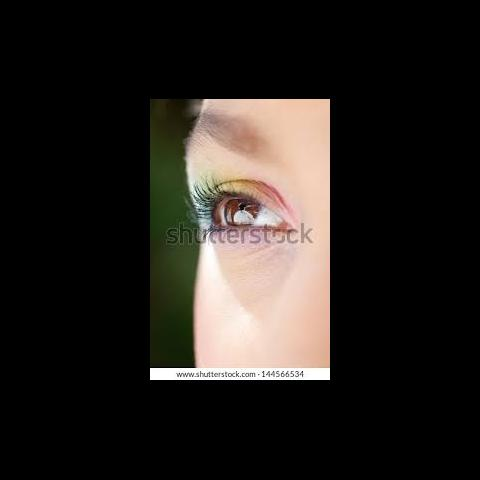opened: (176, 127, 313, 261)
